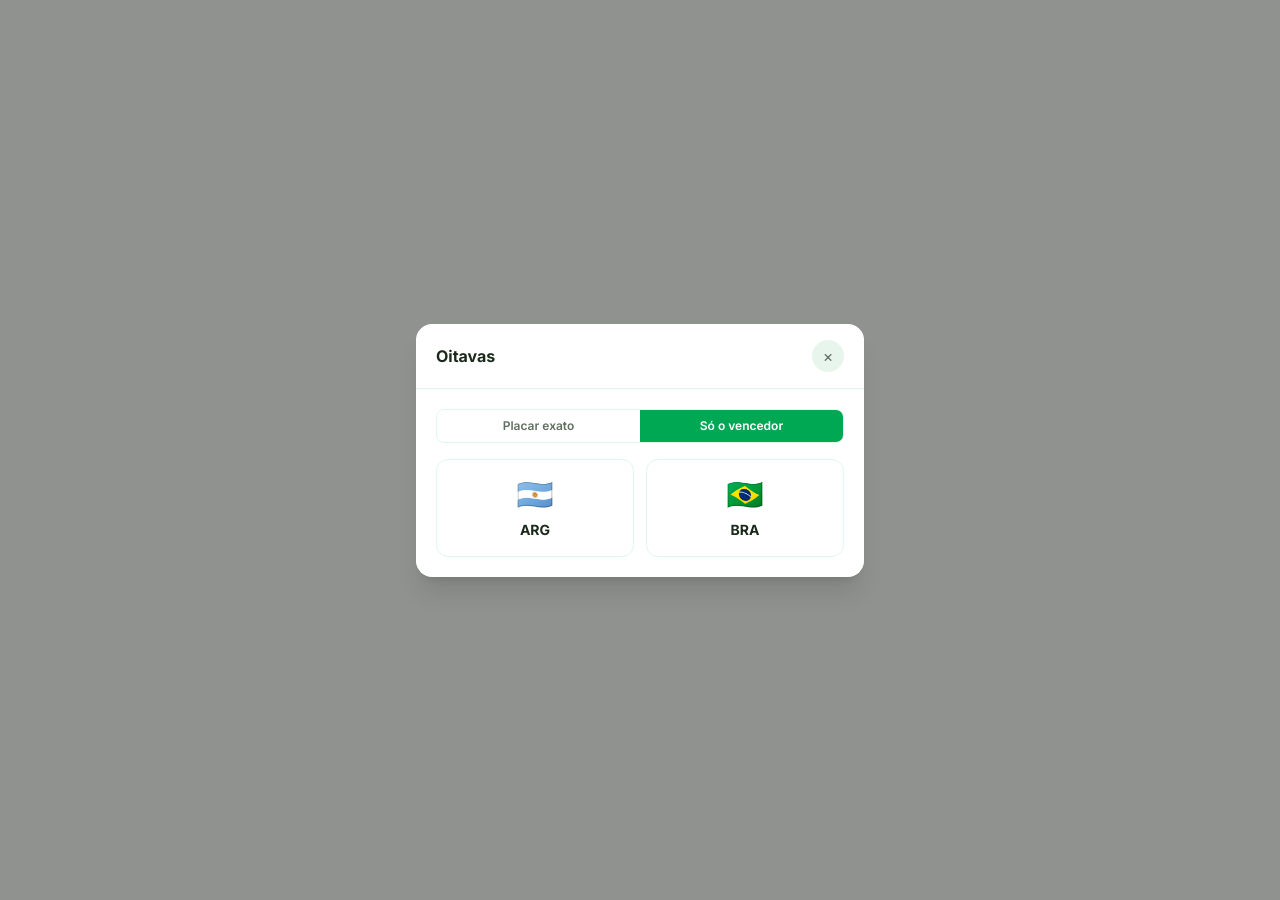
Test: KnockoutMatchModal › confirm button is disabled when score is tied
The width and height of the screenshot is (1280, 900).
// Switch to exact mode first (default is winner)
What coordinates should you click on to do the following:
click the button with test id "mode-exact"
I would click on:
 (538, 426)
Its box is [437,410,640,442].
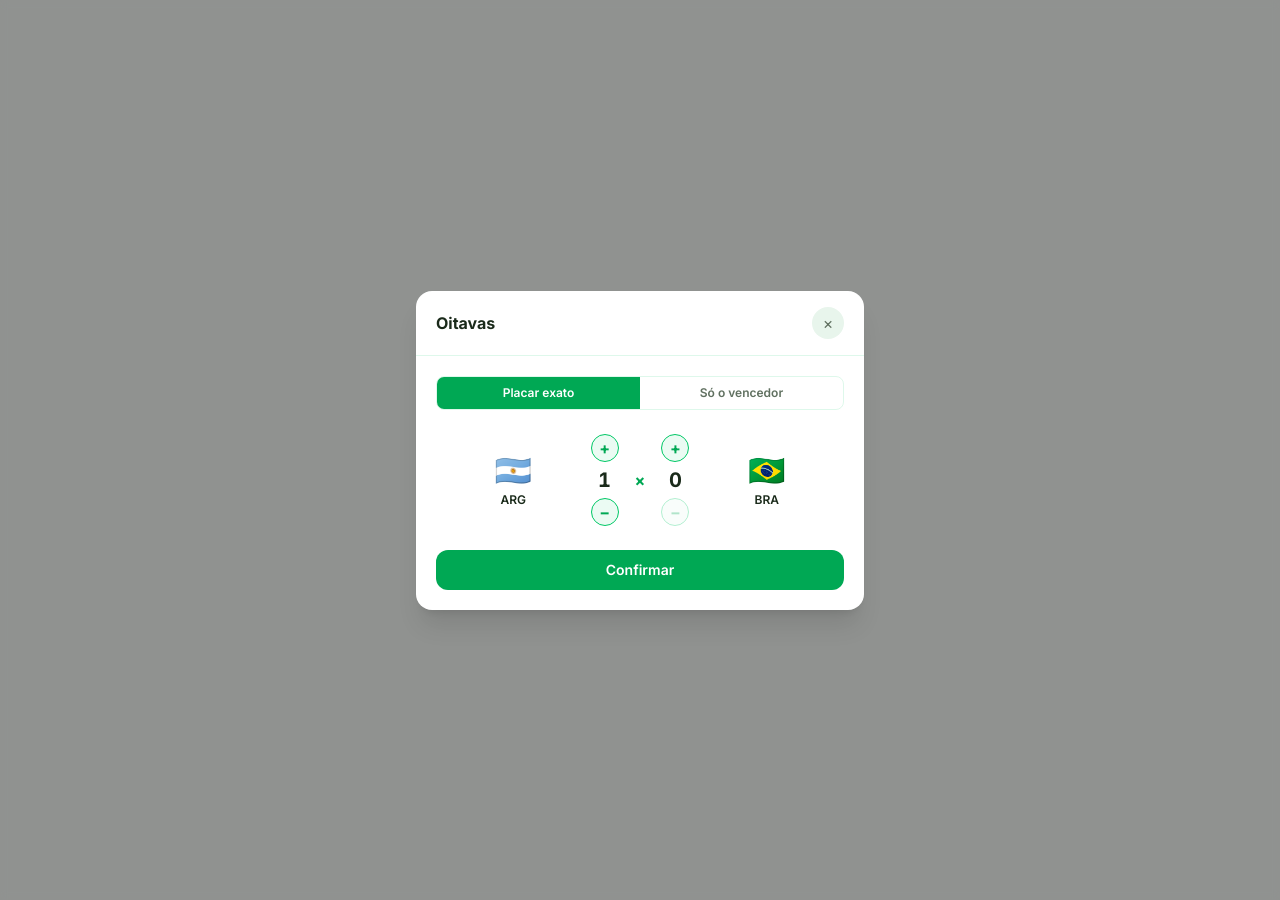
// Default 1-0. Make it 1-1 by incrementing away.
What coordinates should you click on to do the following:
click the button with test id "away-plus-r32-1"
I would click on:
 (675, 448)
Its box is [661,434,689,462].
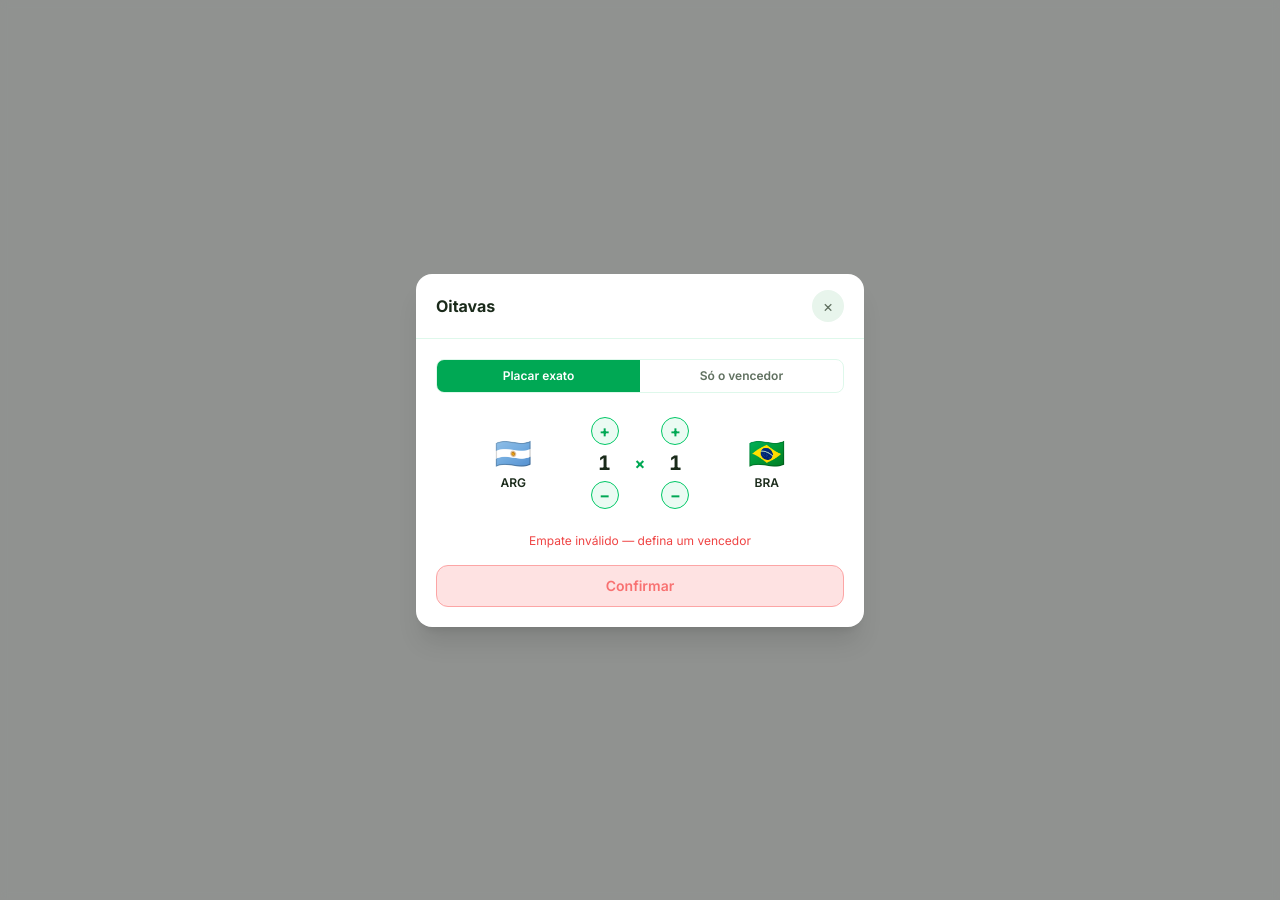
expect the button with test id "confirm-r32-1" is disabled: met, box [436,564,844,606]
